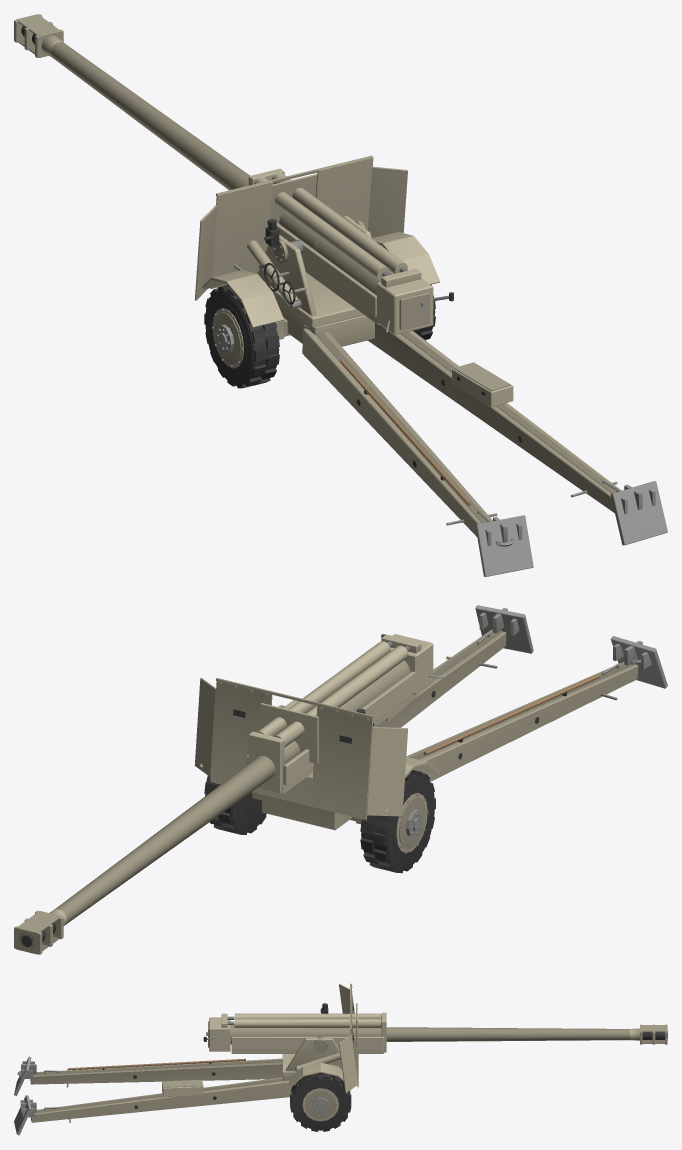
The model's file is rus_tow_mstab.glb.
3 renders of one model, top to bottom at view 1: azimuth 30°, elevation 25°; view 2: azimuth 150°, elevation 25°; view 3: azimuth 270°, elevation 25°, orthographic. The views are drawn at different scales.
Parts seen in each view (by area): view 1: body, barrel, turret, wheel_0; view 2: barrel, turret, body, wheel_0, wheel_1; view 3: body, barrel, wheel_1, turret.
Boxes of the visible parts, x1=… form: body: x1=202, y1=232, x2=667, y2=576; barrel: x1=14, y1=14, x2=453, y2=334; turret: x1=194, y1=155, x2=407, y2=327; wheel_0: x1=204, y1=285, x2=279, y2=388; barrel: x1=14, y1=634, x2=444, y2=954; turret: x1=194, y1=678, x2=407, y2=819; body: x1=200, y1=605, x2=667, y2=830; wheel_0: x1=360, y1=770, x2=435, y2=873; wheel_1: x1=204, y1=775, x2=266, y2=834; body: x1=14, y1=1056, x2=352, y2=1135; barrel: x1=203, y1=1003, x2=667, y2=1053; wheel_1: x1=290, y1=1072, x2=351, y2=1131; turret: x1=282, y1=983, x2=358, y2=1093.
Size of the model in its own units: 2.8 by 2.25 by 12.88.
